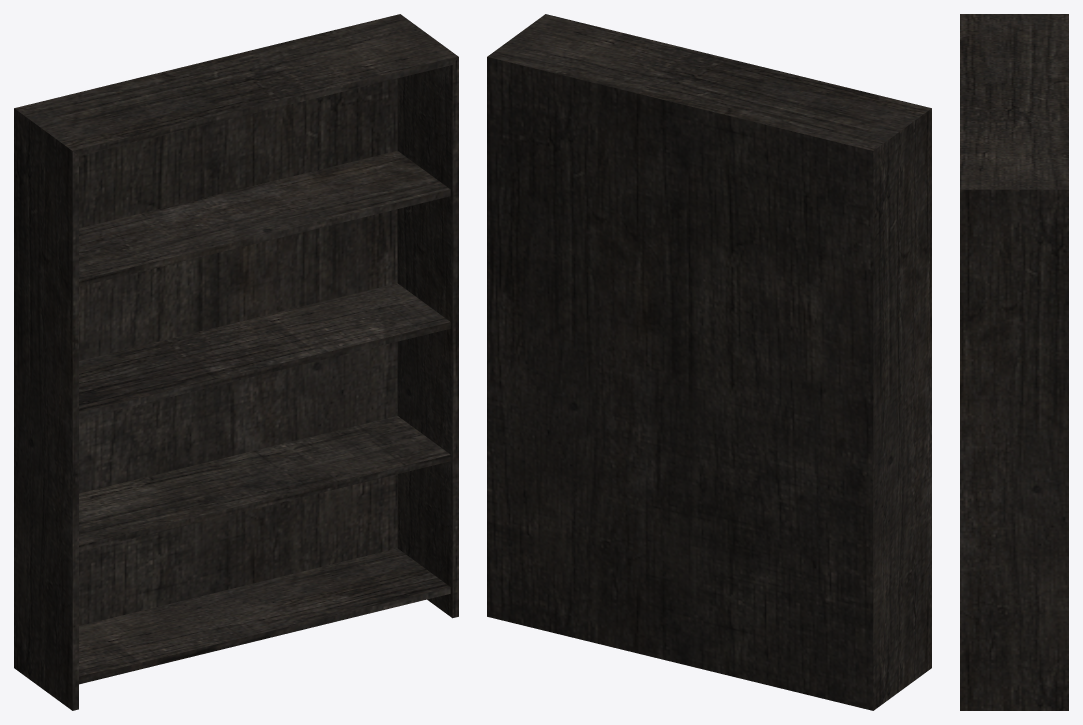
Rendered from shelf_mp_5.dae.
3 renders of one model, left to right at view 1: azimuth 30°, elevation 25°; view 2: azimuth 150°, elevation 25°; view 3: azimuth 270°, elevation 25°, orthographic. The views are drawn at different scales.
Parts seen in each view (by area): view 1: shelf_mp_5; view 2: shelf_mp_5; view 3: shelf_mp_5.
Part boxes in pixels (left/top/right/bottom): shelf_mp_5: left=14, top=14, right=458, bottom=710; shelf_mp_5: left=487, top=14, right=931, bottom=710; shelf_mp_5: left=960, top=14, right=1068, bottom=710.
Bounding box in the file's own units: 1.22 × 0.32 × 1.69.
Materials: 1 (1 with a texture image).
